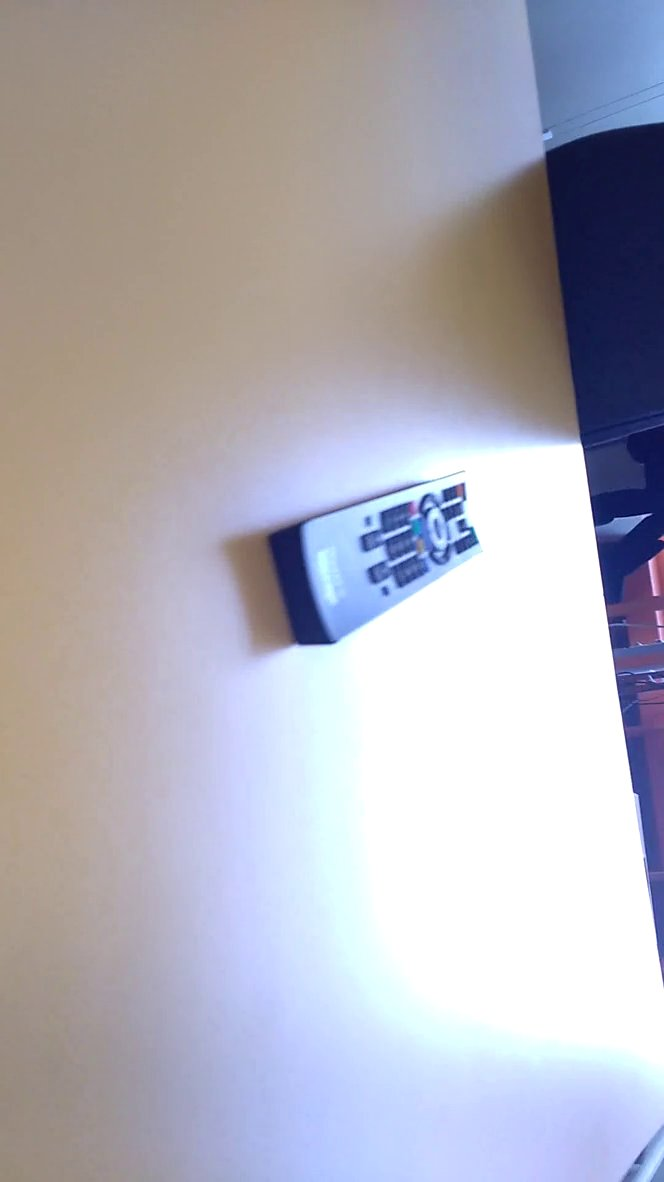remote: (255, 450, 509, 659)
